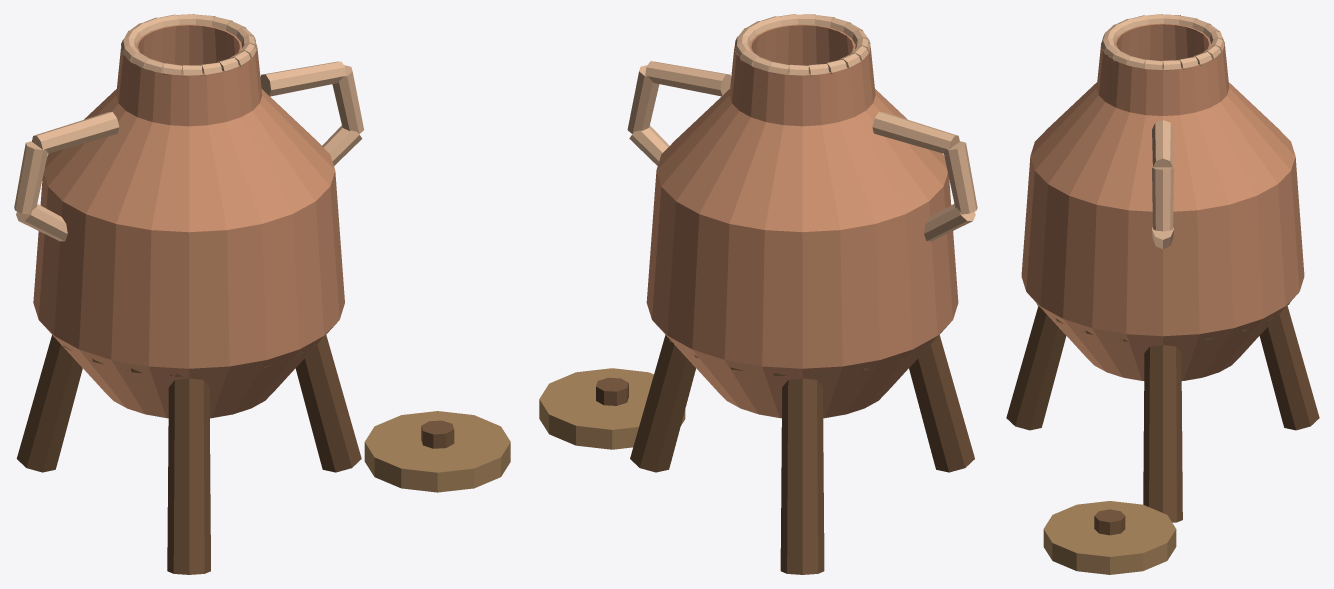
The picture shows the model from 3 angles, left to right: view 1: azimuth 30°, elevation 25°; view 2: azimuth 150°, elevation 25°; view 3: azimuth 270°, elevation 25°; orthographic projection. The views are drawn at different scales.
Parts seen in each view (by area): view 1: GF-014 Cradled garden water jar batched; view 2: GF-014 Cradled garden water jar batched; view 3: GF-014 Cradled garden water jar batched.
Part boxes in pixels (x1,y1,x2,y2): GF-014 Cradled garden water jar batched: [14, 14, 510, 574]; GF-014 Cradled garden water jar batched: [539, 14, 977, 574]; GF-014 Cradled garden water jar batched: [1006, 14, 1319, 574].
Bounding box in the file's own units: 1.08 × 1.05 × 0.7086.
